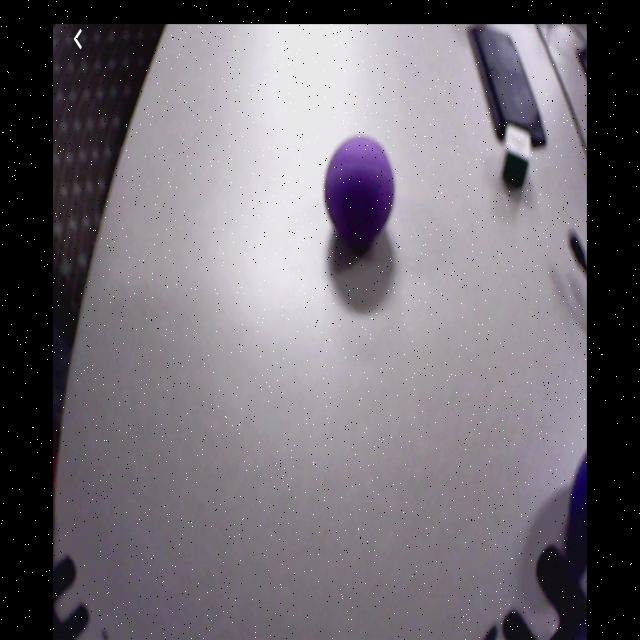ball: (322, 134, 397, 243)
